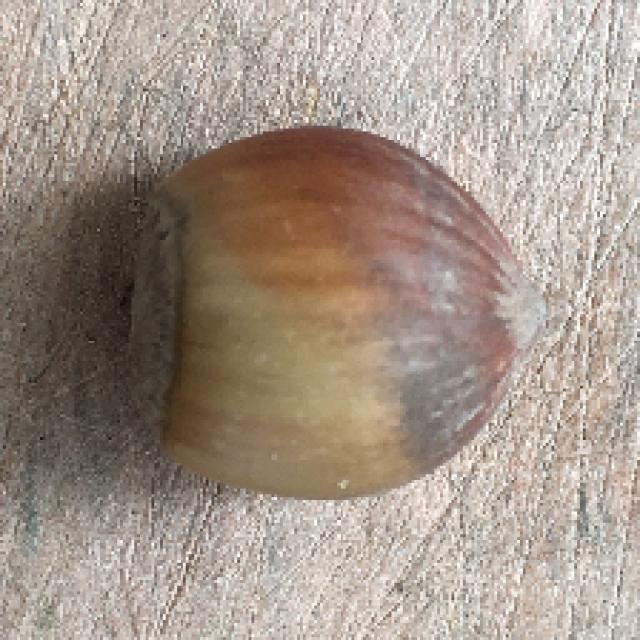damagedHazelnut: (110, 119, 562, 498)
